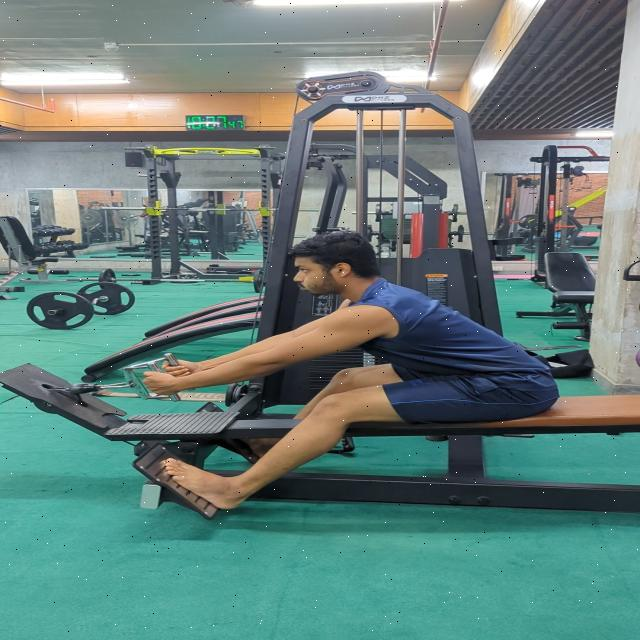Normal_RowingMachineExercise: (135, 231, 562, 512)
